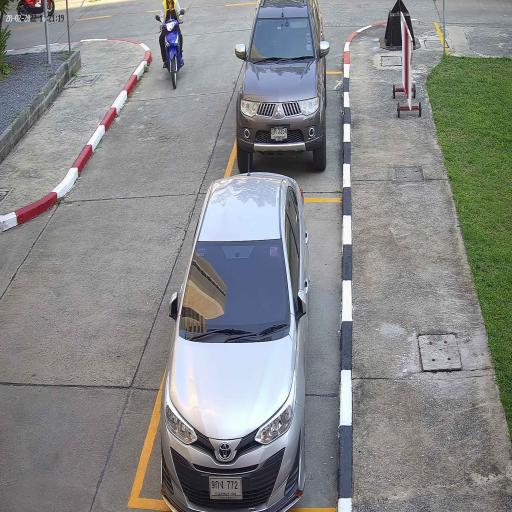car: (158, 173, 312, 512), (235, 0, 329, 174)
motorcycle: (164, 18, 183, 92)
